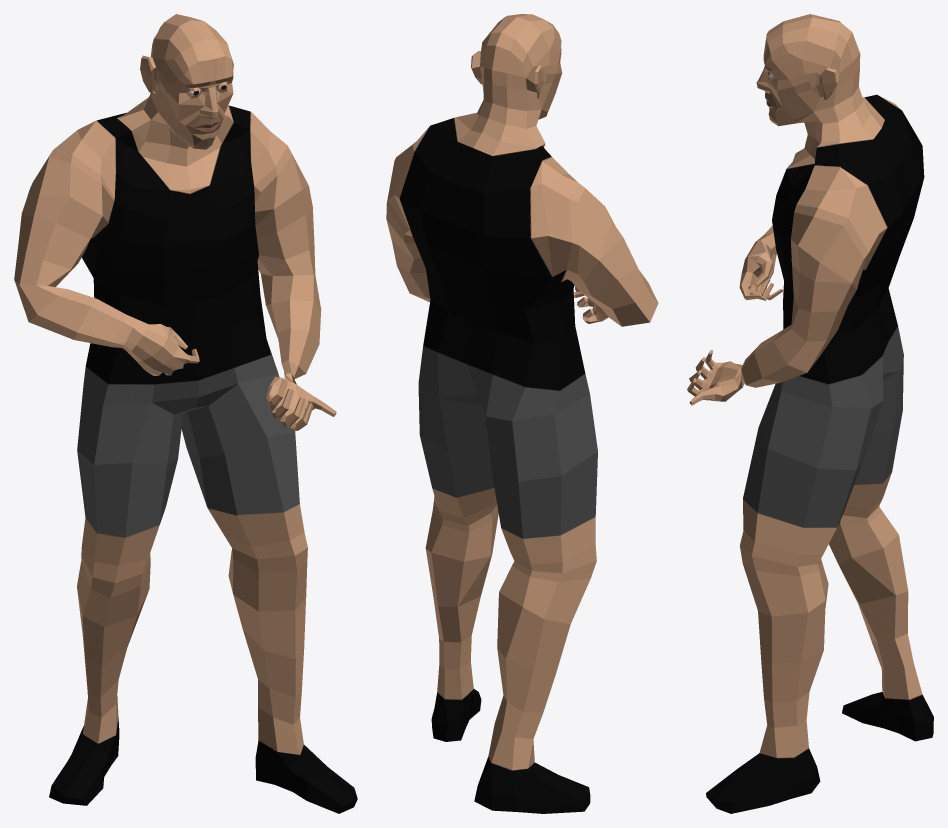
The model's file is PlayerIdle(223).obj.
3 renders of one model, left to right at view 1: azimuth 30°, elevation 25°; view 2: azimuth 150°, elevation 25°; view 3: azimuth 270°, elevation 25°, orthographic. The views are drawn at different scales.
Parts seen in each view (by area): view 1: Plane002; view 2: Plane002; view 3: Plane002.
Part boxes in pixels (x1,y1,x2,y2): Plane002: (14,14,357,813); Plane002: (386,14,658,813); Plane002: (687,14,933,813).
Bounding box in the file's own units: 677 × 1803 × 546.
